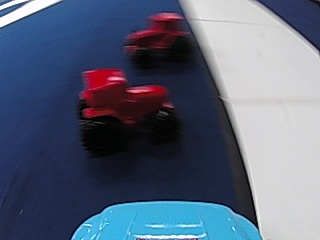tractor: (74, 62, 178, 151), (125, 11, 187, 67)
